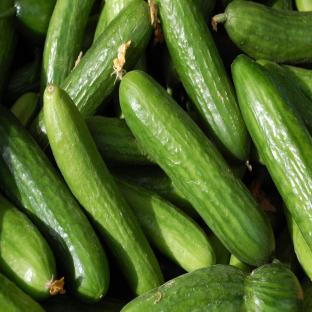Cucumber: (120, 71, 274, 265), (44, 85, 163, 295), (0, 106, 109, 301), (156, 0, 250, 164), (232, 55, 311, 248), (61, 0, 152, 116), (114, 176, 215, 271), (122, 262, 303, 311), (213, 0, 311, 63), (0, 194, 56, 300), (41, 0, 94, 103), (109, 165, 199, 218), (257, 60, 311, 133), (85, 116, 155, 164), (0, 0, 56, 44), (3, 50, 41, 107), (284, 207, 312, 279), (0, 274, 45, 311), (275, 225, 304, 280), (0, 18, 18, 100), (41, 294, 127, 311), (282, 65, 311, 101), (11, 92, 39, 127), (209, 232, 230, 264), (260, 0, 292, 10)
